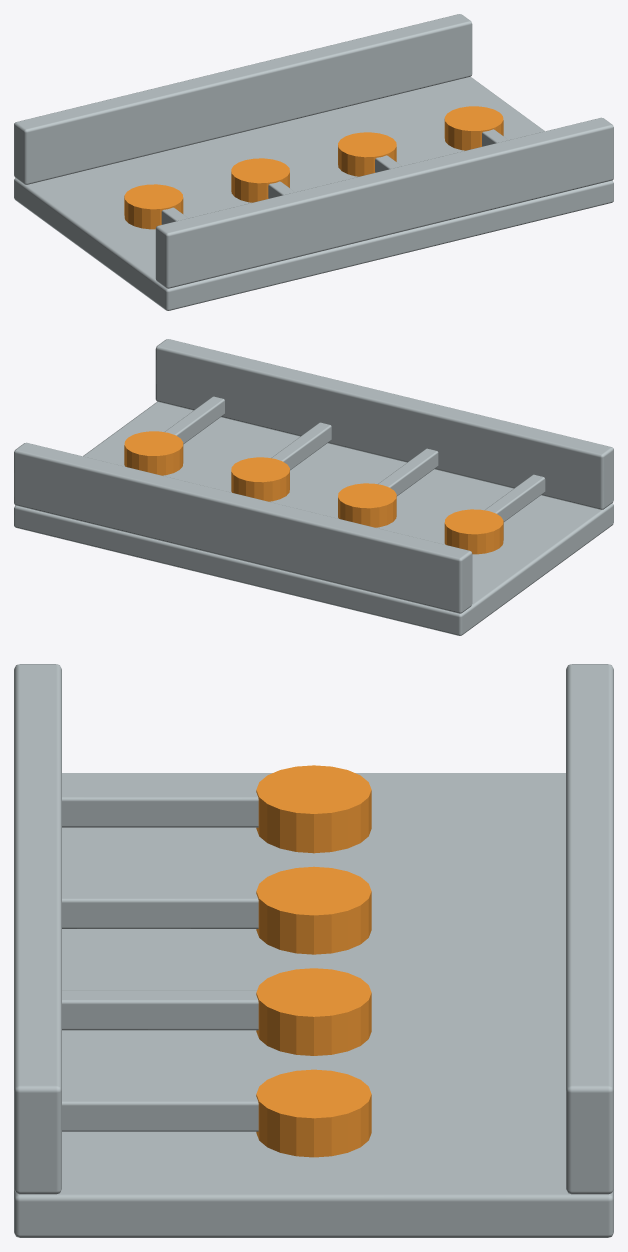
The model's file is container-inspection-and-customs-yard-container-inspec-938c1abe__29283.glb.
The picture shows the model from 3 angles, top to bottom: view 1: azimuth 30°, elevation 25°; view 2: azimuth 150°, elevation 25°; view 3: azimuth 270°, elevation 25°; orthographic projection. The views are drawn at different scales.
Parts seen in each view (by area): view 1: container-inspection-and-customs-yard-bolt-seal-tray; view 2: container-inspection-and-customs-yard-bolt-seal-tray; view 3: container-inspection-and-customs-yard-bolt-seal-tray.
Boxes of the visible parts, x1,y1,x2,y2 form: container-inspection-and-customs-yard-bolt-seal-tray: [14, 14, 613, 310]; container-inspection-and-customs-yard-bolt-seal-tray: [14, 339, 613, 635]; container-inspection-and-customs-yard-bolt-seal-tray: [14, 664, 613, 1237].
Size of the model in its own units: 0.42 by 0.07 by 0.25.
